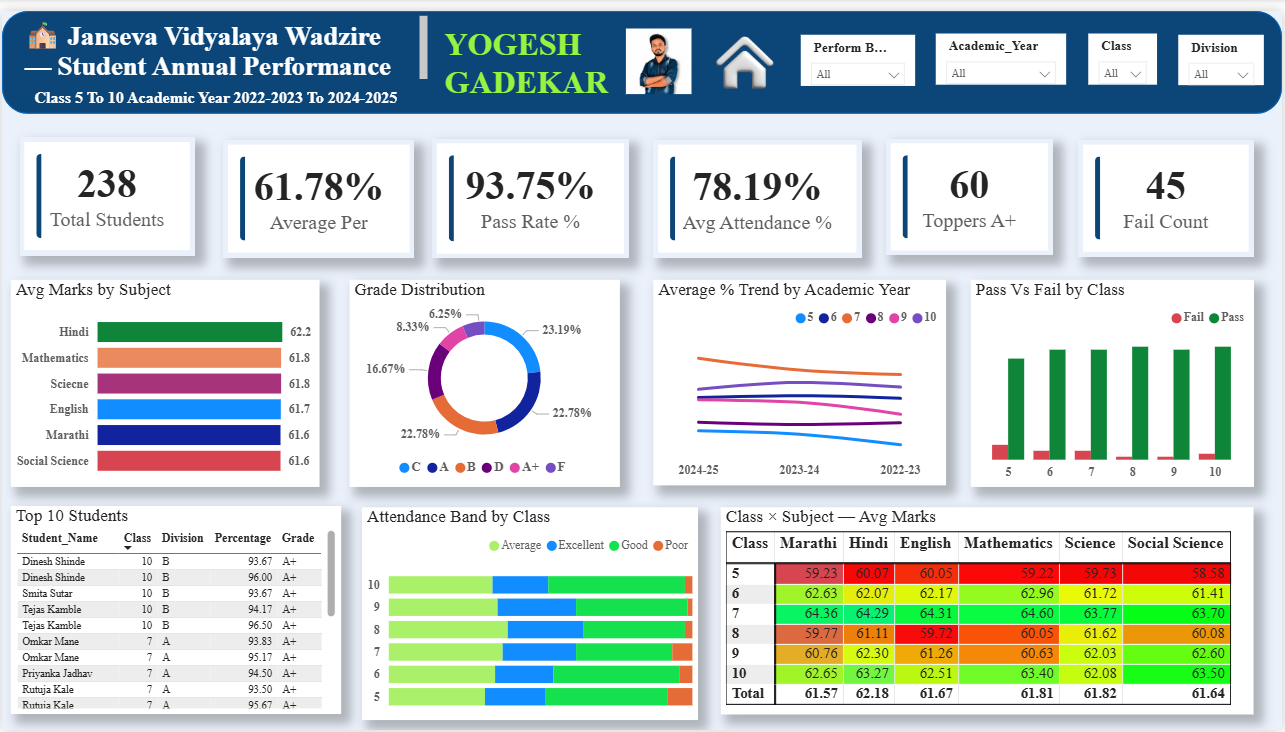

The dashboard page shown, as its layout file describes it:
{"tool":"powerbi","page":{"name":"Page 1","canvas":[1280,720],"ordinal":0},"visuals":[{"type":"shape","box":[0,0,1280,102.9],"z":0},{"type":"cardVisual","fields":{"Data":["janseva_vidyalaya_performance.Total Students"]},"box":[17.1,125.7,175.7,118.6],"z":1000},{"type":"cardVisual","fields":{"Data":["janseva_vidyalaya_performance.Avg Attendance %"]},"box":[651.4,128.6,208.6,118.6],"z":2000},{"type":"cardVisual","fields":{"Data":["janseva_vidyalaya_performance.Topper Count"]},"box":[884.3,127.1,167.1,117.1],"z":3000},{"type":"cardVisual","fields":{"Data":["janseva_vidyalaya_performance.Fail Count"]},"box":[1075.7,128.6,175.7,117.1],"z":4000},{"type":"cardVisual","fields":{"Data":["janseva_vidyalaya_performance.Pass Rate %"]},"box":[430,127.1,197.1,120],"z":5000},{"type":"cardVisual","fields":{"Data":["janseva_vidyalaya_performance.Average Percentage"]},"box":[221.4,128.6,191.4,118.6],"z":6000},{"type":"clusteredBarChart","title":"Avg Marks by Subject","fields":{"Category":["Subject & Marks.Subject"],"Y":["Sum(Subject & Marks.Avg_Marks)"]},"box":[8.6,268.6,308.6,207.1],"z":7000},{"type":"donutChart","title":"Grade Distribution","fields":{"Category":["janseva_vidyalaya_performance.Grade"],"Y":["CountNonNull(janseva_vidyalaya_performance.Student_Name)"]},"box":[347.1,268.6,270,207.1],"z":8000},{"type":"lineChart","title":"Average % Trend by Academic Year","fields":{"Category":["janseva_vidyalaya_performance.Academic_Year"],"Series":["janseva_vidyalaya_performance.Class"],"Y":["Avg(janseva_vidyalaya_performance.Percentage)"]},"box":[651.4,268.6,292.9,205.7],"z":9000},{"type":"clusteredColumnChart","title":"Pass Vs Fail by Class","fields":{"Series":["janseva_vidyalaya_performance.Result"],"Category":["janseva_vidyalaya_performance.Class"],"Y":["Count(janseva_vidyalaya_performance.Student_Name)"]},"box":[968.6,268.6,282.9,207.1],"z":10000},{"type":"tableEx","title":"Top 10 Students","fields":{"Values":["janseva_vidyalaya_performance.Student_Name","janseva_vidyalaya_performance.Class","janseva_vidyalaya_performance.Division","janseva_vidyalaya_performance.Percentage","janseva_vidyalaya_performance.Grade"]},"box":[8.9,495.6,330,207.8],"z":11000},{"type":"barChart","title":"Attendance Band by Class","fields":{"Category":["janseva_vidyalaya_performance.Class"],"Y":["CountNonNull(janseva_vidyalaya_performance.Student_Name)"],"Series":["janseva_vidyalaya_performance.Attendance_Band"]},"box":[360,495.7,335.7,212.9],"z":12000},{"type":"pivotTable","title":"Class × Subject — Avg Marks","fields":{"Rows":["janseva_vidyalaya_performance.Class"],"Values":["janseva_vidyalaya_performance.Avg Marathi","janseva_vidyalaya_performance.Avg Hindi","janseva_vidyalaya_performance.Avg English","janseva_vidyalaya_performance.Avg Mathematics","janseva_vidyalaya_performance.Avg Science","janseva_vidyalaya_performance.Avg Social Science"]},"box":[718.6,495.7,532.9,207.1],"z":13000},{"type":"textbox","box":[17.1,0,412.9,74.3],"z":14000},{"type":"textbox","box":[27.1,72.9,491.4,30],"z":15000},{"type":"textbox","box":[437.1,10,190,92.9],"z":16000},{"type":"slicer","fields":{"Values":["janseva_vidyalaya_performance.Academic_Year"]},"box":[934.3,22.9,130,51.4],"z":17000},{"type":"slicer","fields":{"Values":["janseva_vidyalaya_performance.Class"]},"box":[1085.7,22.9,68.6,51.4],"z":18000},{"type":"slicer","fields":{"Values":["janseva_vidyalaya_performance.Division"]},"box":[1175.7,24.3,85.7,50],"z":19000},{"type":"slicer","fields":{"Values":["janseva_vidyalaya_performance.Performance_Band"]},"box":[798.6,24.3,114.3,51.4],"z":20000},{"type":"image","box":[617.1,17.1,78.6,65.7],"z":21000},{"type":"image","box":[705.7,20,72.9,62.9],"z":22000}]}

Visuals, with their boxes in screenshot pixels (x1, y1, x2, y2), scaled from the page's 1280x720 canvas onto the 1285x732 screenshot:
shape: box=[0, 0, 1284, 105]
cardVisual - janseva_vidyalaya_performance.Total Students: box=[17, 128, 194, 248]
cardVisual - janseva_vidyalaya_performance.Avg Attendance %: box=[654, 131, 863, 251]
cardVisual - janseva_vidyalaya_performance.Topper Count: box=[888, 129, 1056, 248]
cardVisual - janseva_vidyalaya_performance.Fail Count: box=[1080, 131, 1256, 250]
cardVisual - janseva_vidyalaya_performance.Pass Rate %: box=[432, 129, 630, 251]
cardVisual - janseva_vidyalaya_performance.Average Percentage: box=[222, 131, 414, 251]
"Avg Marks by Subject" clusteredBarChart: box=[9, 273, 318, 484]
"Grade Distribution" donutChart: box=[348, 273, 620, 484]
"Average % Trend by Academic Year" lineChart: box=[654, 273, 948, 482]
"Pass Vs Fail by Class" clusteredColumnChart: box=[972, 273, 1256, 484]
"Top 10 Students" tableEx: box=[9, 504, 340, 715]
"Attendance Band by Class" barChart: box=[361, 504, 698, 720]
"Class × Subject — Avg Marks" pivotTable: box=[721, 504, 1256, 715]
textbox: box=[17, 0, 432, 76]
textbox: box=[27, 74, 521, 105]
textbox: box=[439, 10, 630, 105]
slicer - janseva_vidyalaya_performance.Academic_Year: box=[938, 23, 1068, 76]
slicer - janseva_vidyalaya_performance.Class: box=[1090, 23, 1159, 76]
slicer - janseva_vidyalaya_performance.Division: box=[1180, 25, 1266, 76]
slicer - janseva_vidyalaya_performance.Performance_Band: box=[802, 25, 916, 77]
image: box=[620, 17, 698, 84]
image: box=[708, 20, 782, 84]
